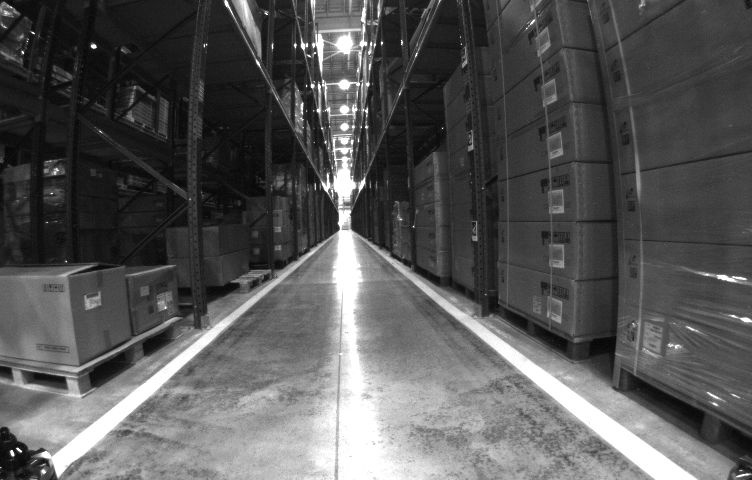True Barcode: (642, 322, 665, 351)
